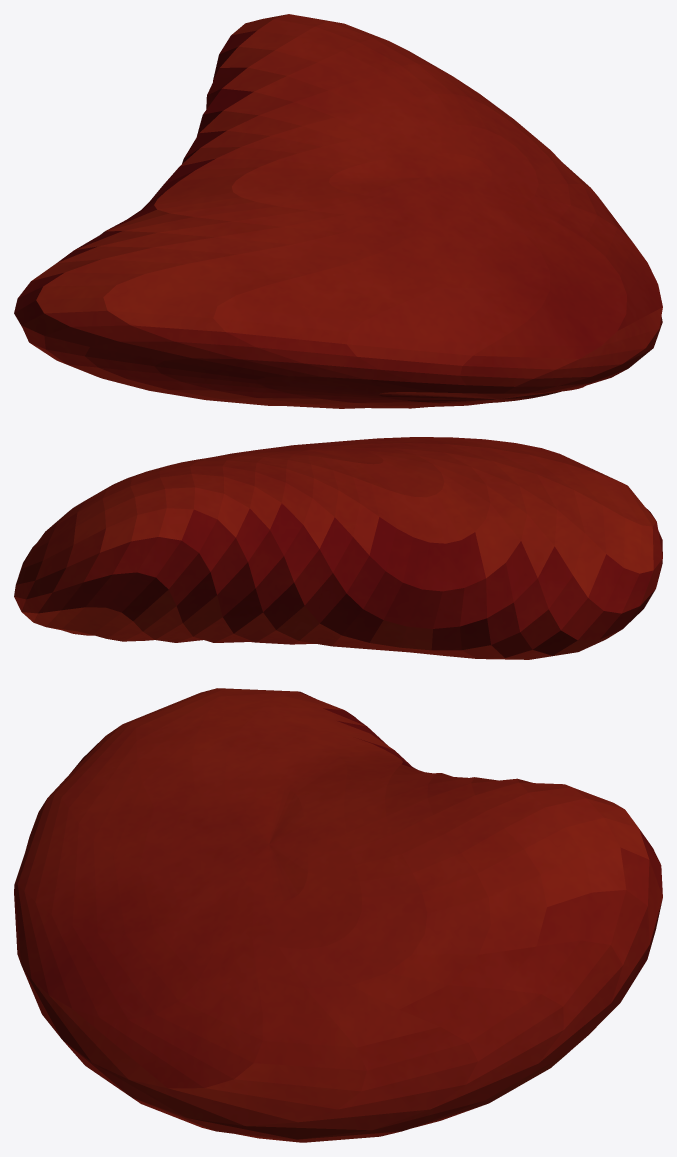
File: blood_splat.dae
The picture shows the model from 3 angles, top to bottom: view 1: azimuth 30°, elevation 25°; view 2: azimuth 150°, elevation 25°; view 3: azimuth 270°, elevation 25°; orthographic projection. The views are drawn at different scales.
Parts seen in each view (by area): view 1: Sphere; view 2: Sphere; view 3: Sphere.
Boxes of the visible parts, box(x1,y1,x2,y2) form: Sphere: box(14, 14, 662, 408); Sphere: box(14, 437, 662, 659); Sphere: box(14, 688, 662, 1142).
Bounding box in the file's own units: 0.6256 × 0.5446 × 0.2339.
1 material, 1 textured.
